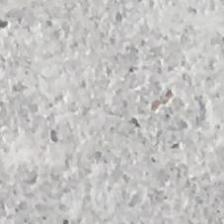Non_Crack: (58, 5, 220, 192)
